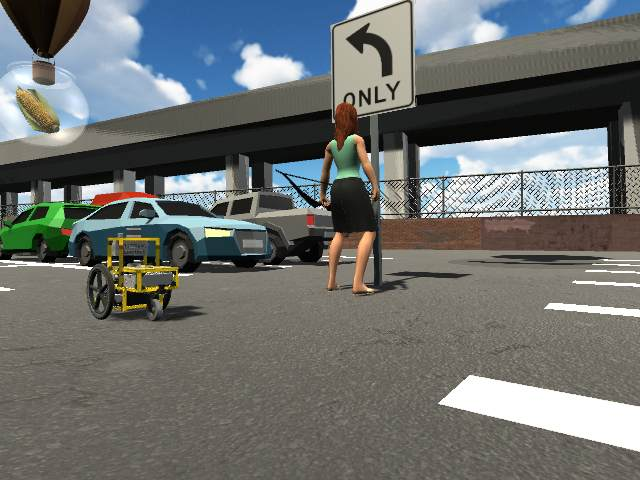arrow_left: (343, 20, 395, 77)
